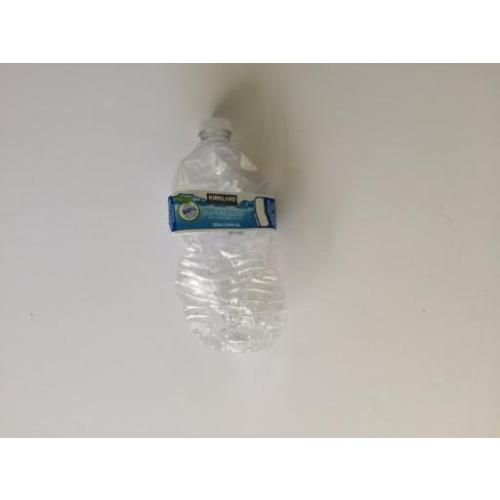plastic: (168, 117, 281, 353)
